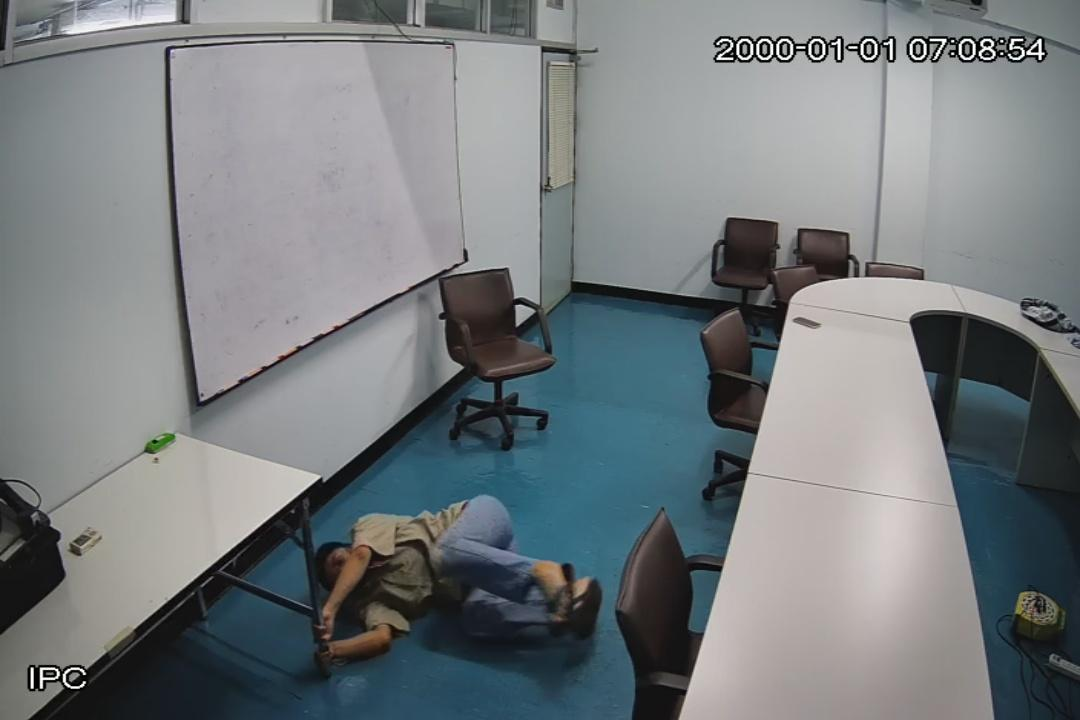fall: (300, 496, 604, 678)
